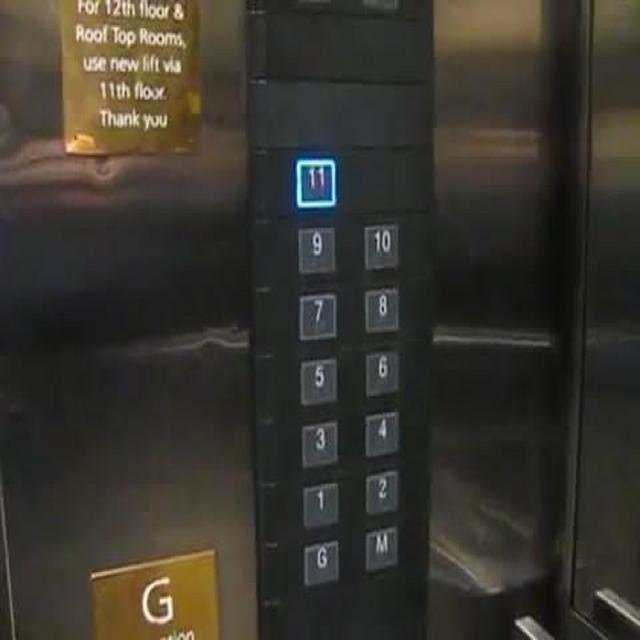1: (302, 480, 338, 528)
10: (360, 220, 399, 271)
11: (293, 153, 337, 210)
2: (363, 467, 397, 516)
3: (301, 418, 338, 466)
4: (363, 409, 399, 456)
5: (298, 355, 338, 405)
6: (362, 348, 400, 397)
7: (295, 291, 339, 340)
8: (362, 284, 398, 333)
9: (296, 224, 337, 272)
G: (303, 539, 338, 585)
M: (363, 525, 398, 571)
